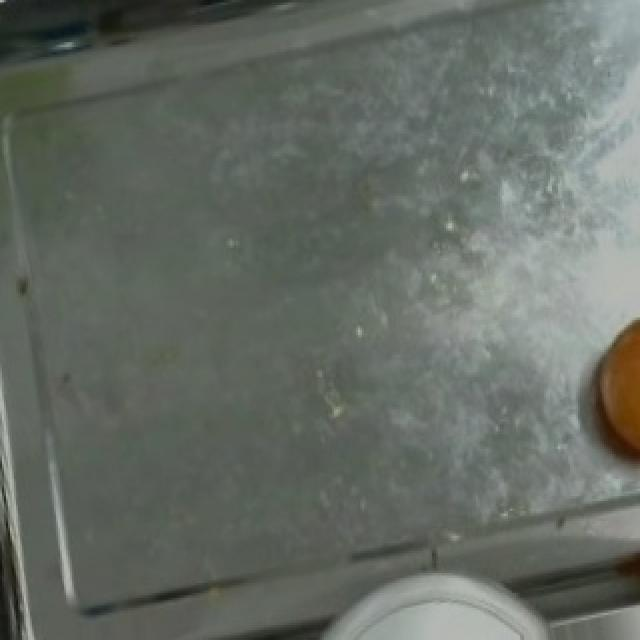Fruit: (320, 556, 558, 638), (574, 285, 640, 489)
